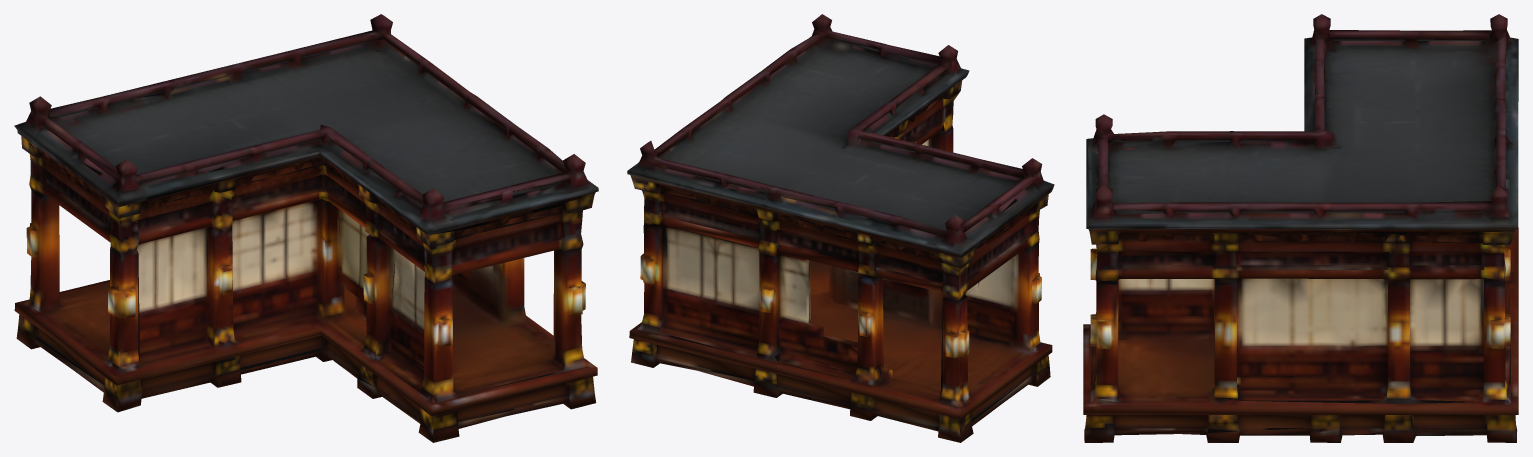
The model's file is HallWayWithTurnFixed.fbx.
The picture shows the model from 3 angles, left to right: view 1: azimuth 30°, elevation 25°; view 2: azimuth 150°, elevation 25°; view 3: azimuth 270°, elevation 25°; orthographic projection. The views are drawn at different scales.
Parts seen in each view (by area): view 1: node_0.001; view 2: node_0.001; view 3: node_0.001.
Part boxes in pixels (<box>): node_0.001: <box>14,14,598,442</box>; node_0.001: <box>627,14,1054,442</box>; node_0.001: <box>1083,14,1518,442</box>.
Bounding box in the file's own units: 78.82 × 49.45 × 77.39.
Materials: 1 (1 with a texture image).
